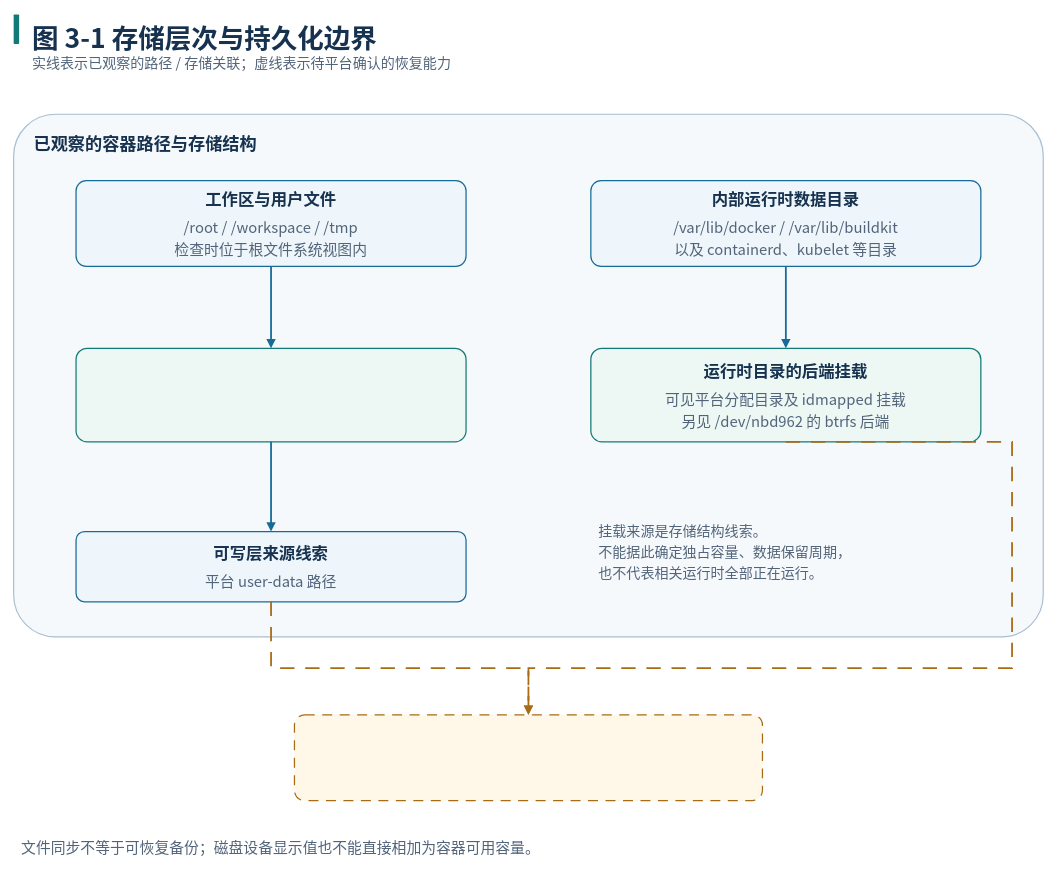
This 1060x876 diagram has some shape labels left out. Each missing label, with the centre of its shape:
"休眠、重建、回收后的数据保留？ 哪些路径受保护、快照周期及恢复时长 均需平台确认，并以恢复演练验收" belongs at pixel 528 757.
"根文件系统：overlay 可见总容量 256 GiB 采样可用约 253.79 GiB" belongs at pixel 270 394.
